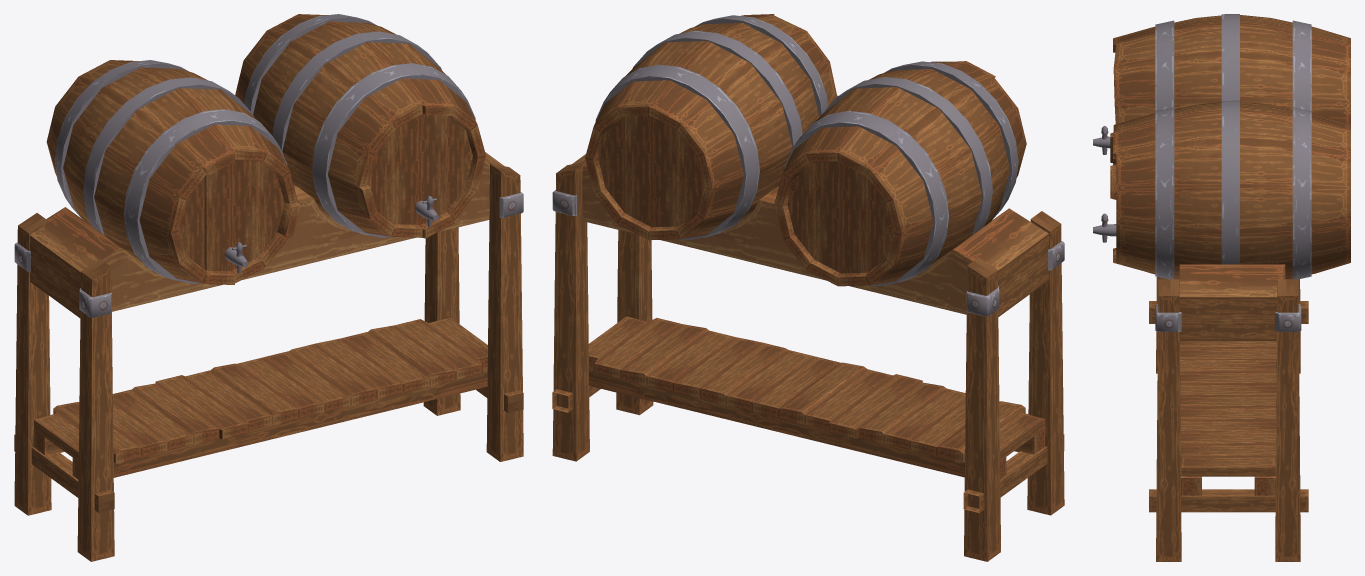
Rendered from Barrel_Holder.gltf.
3 renders of one model, left to right at view 1: azimuth 30°, elevation 25°; view 2: azimuth 150°, elevation 25°; view 3: azimuth 270°, elevation 25°, orthographic. The views are drawn at different scales.
Visible parts, largest first — view 1: Barrel_Holder; view 2: Barrel_Holder; view 3: Barrel_Holder.
Part boxes in pixels (box(x1,y1,x2,y2)): Barrel_Holder: box(14, 14, 523, 561); Barrel_Holder: box(552, 14, 1064, 561); Barrel_Holder: box(1093, 14, 1350, 561).
Bounding box in the file's own units: 1.36 × 1.26 × 0.741.
Materials: 2 (2 with a texture image).
